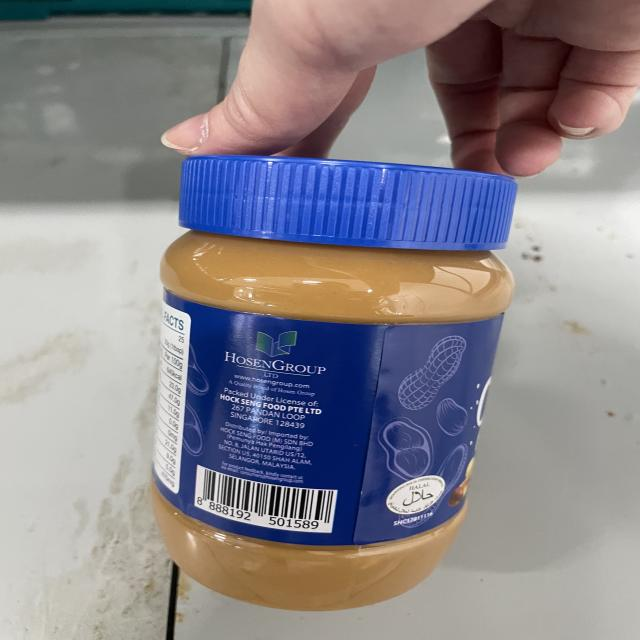object_name: (170, 157, 515, 592)
